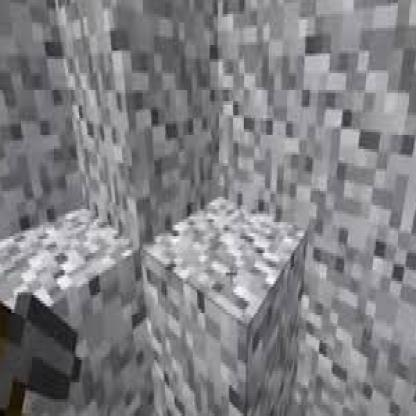Igneous_Diorite: (146, 191, 308, 413), (224, 0, 415, 184), (2, 186, 134, 413), (70, 3, 220, 177)
